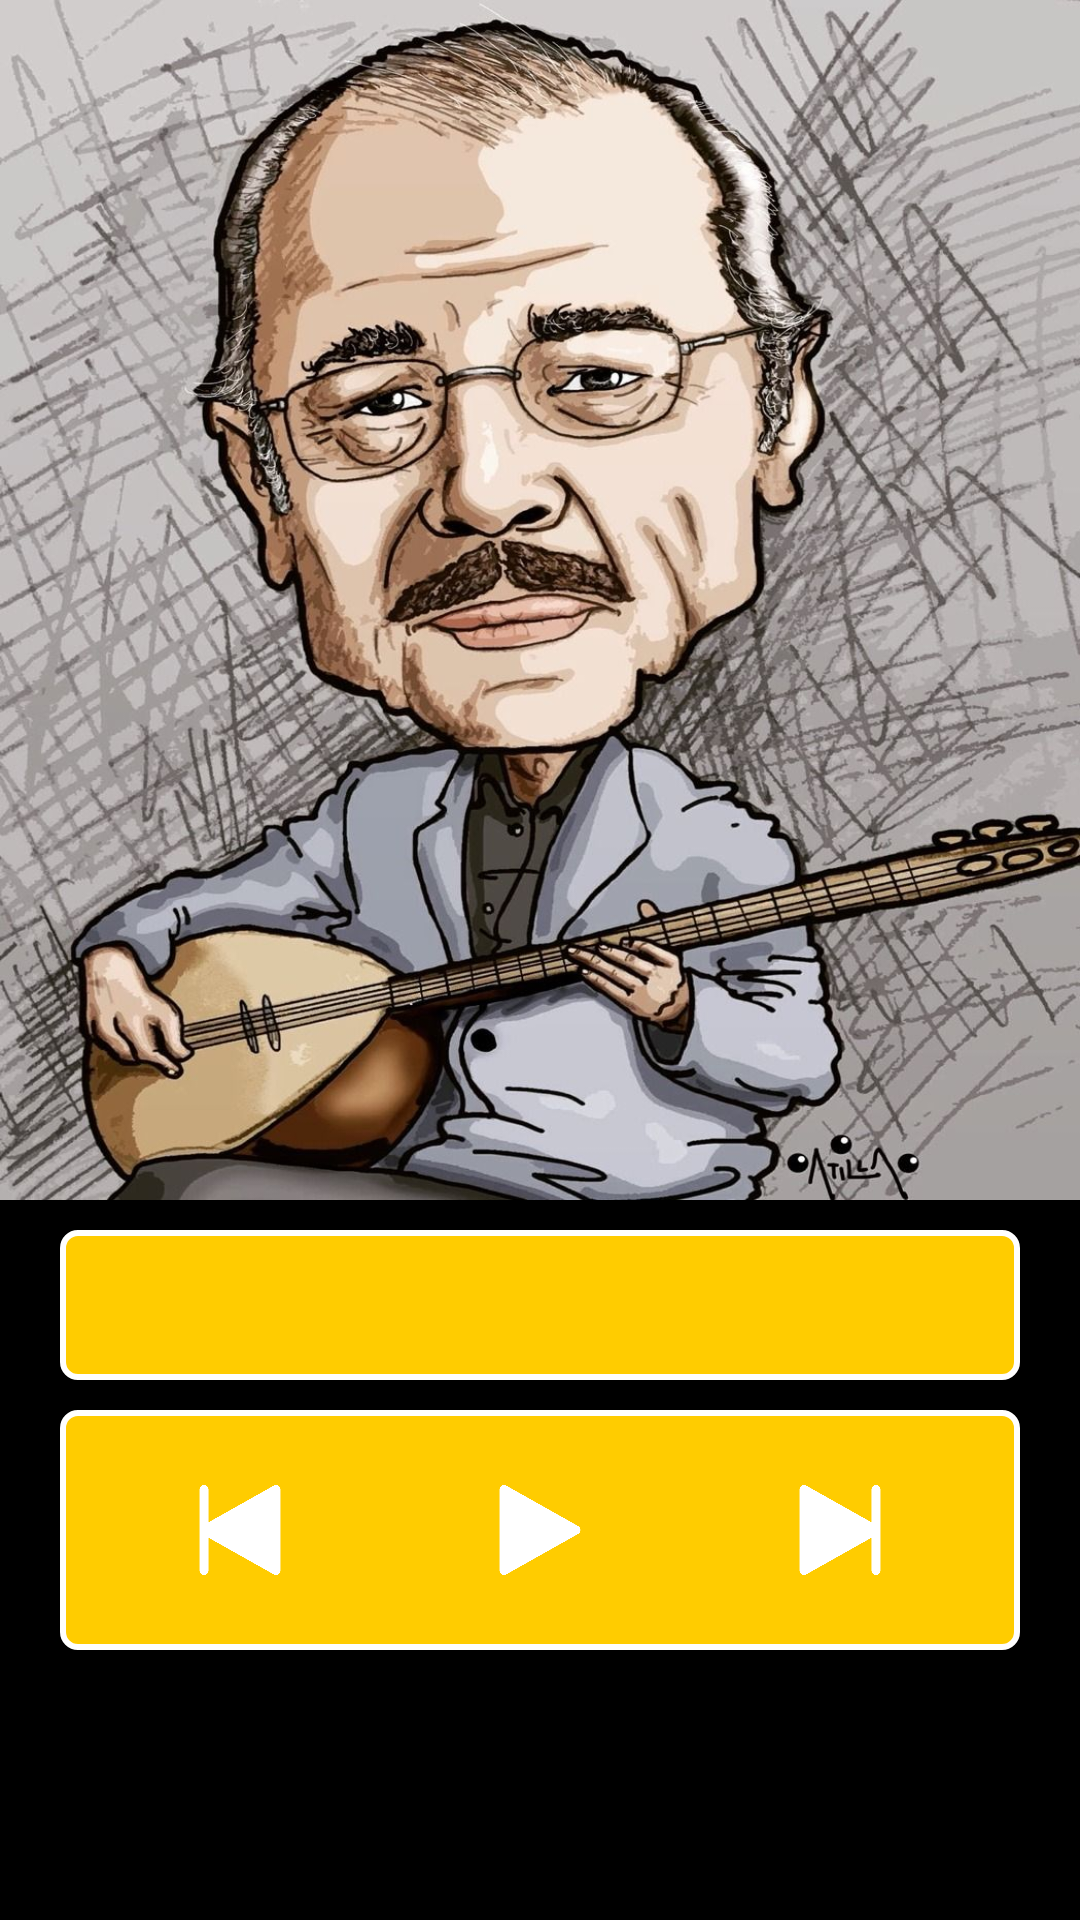

Icons on this 1080×1920 Android screen, each with its box as (x1, y1, x2, y2):
next: (799, 1485, 881, 1575)
play: (499, 1485, 581, 1575)
previous: (199, 1485, 281, 1575)
